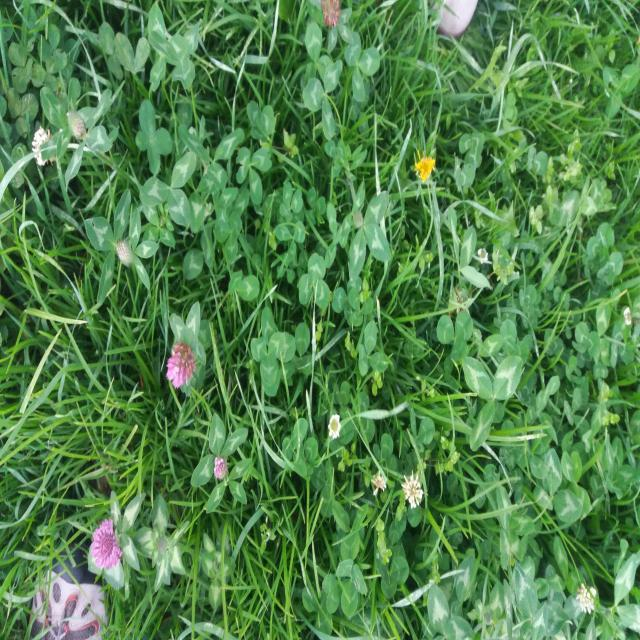Four Leaf Clover: (135, 100, 173, 174)
